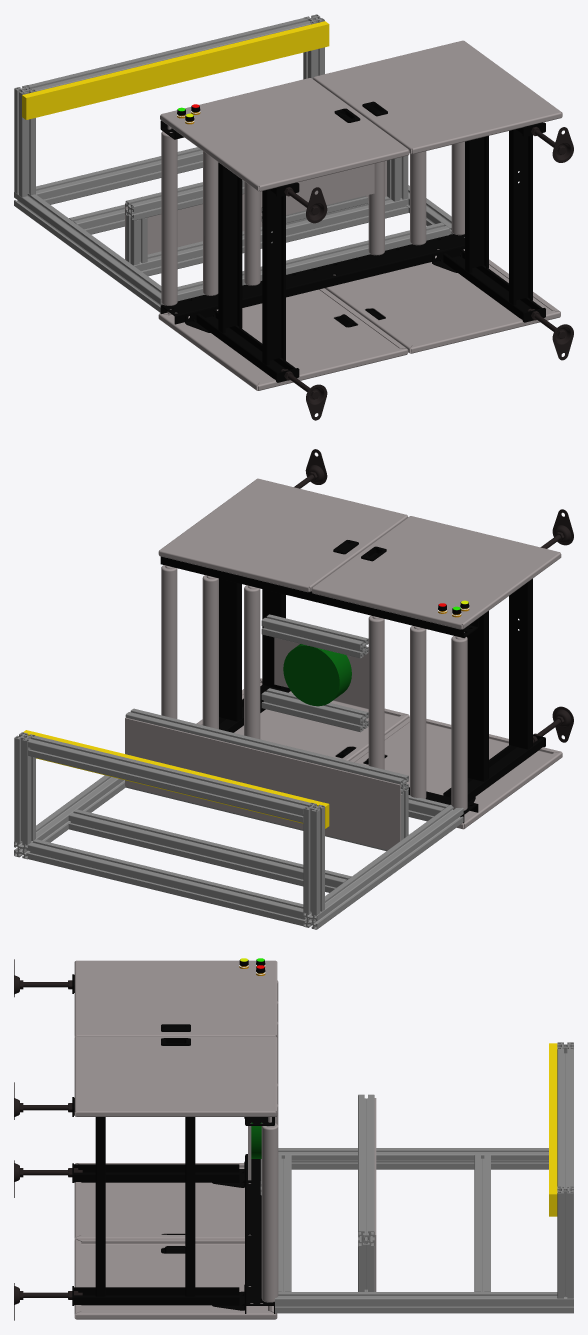
The model's file is dracoManaulConveyorV2.glb.
3 renders of one model, top to bottom at view 1: azimuth 30°, elevation 25°; view 2: azimuth 150°, elevation 25°; view 3: azimuth 270°, elevation 25°, orthographic. The views are drawn at different scales.
Visible parts, largest first — view 1: Object_23, Object_24, Object_17, Object_11, Object_12, Object_4, Object_18, Object_10, Object_13, Object_15; view 2: Object_23, Object_11, Object_17, Object_12, Object_24, Object_13, Object_5, Object_18, Object_10, Object_4; view 3: Object_23, Object_24, Object_11, Object_17, Object_12, Object_13, Object_18, Object_10, Object_4.
Boxes of the visible parts, x1=… form: Object_23: x1=125, y1=40, x2=562, y2=314; Object_24: x1=158, y1=249, x2=560, y2=390; Object_17: x1=185, y1=122, x2=545, y2=382; Object_11: x1=14, y1=147, x2=453, y2=312; Object_12: x1=14, y1=14, x2=408, y2=276; Object_4: x1=22, y1=21, x2=329, y2=119; Object_18: x1=160, y1=120, x2=464, y2=324; Object_10: x1=281, y1=127, x2=573, y2=420; Object_13: x1=125, y1=155, x2=408, y2=223; Object_15: x1=334, y1=101, x2=387, y2=327; Object_23: x1=125, y1=478, x2=561, y2=849; Object_11: x1=14, y1=775, x2=463, y2=929; Object_17: x1=219, y1=578, x2=545, y2=802; Object_12: x1=14, y1=732, x2=408, y2=914; Object_24: x1=196, y1=678, x2=562, y2=829; Object_13: x1=125, y1=614, x2=408, y2=795; Object_5: x1=283, y1=644, x2=351, y2=706; Object_18: x1=160, y1=556, x2=478, y2=822; Object_10: x1=294, y1=449, x2=573, y2=743; Object_4: x1=23, y1=730, x2=329, y2=828; Object_23: x1=74, y1=960, x2=376, y2=1310; Object_24: x1=74, y1=1163, x2=277, y2=1319; Object_11: x1=275, y1=1148, x2=573, y2=1313; Object_17: x1=72, y1=974, x2=244, y2=1305; Object_12: x1=358, y1=1042, x2=573, y2=1298; Object_13: x1=260, y1=1094, x2=374, y2=1291; Object_18: x1=74, y1=974, x2=274, y2=1313; Object_10: x1=14, y1=959, x2=82, y2=1320; Object_4: x1=549, y1=1043, x2=557, y2=1216.
Bounding box in the file's own units: 2.46 × 1.79 × 3.82.
